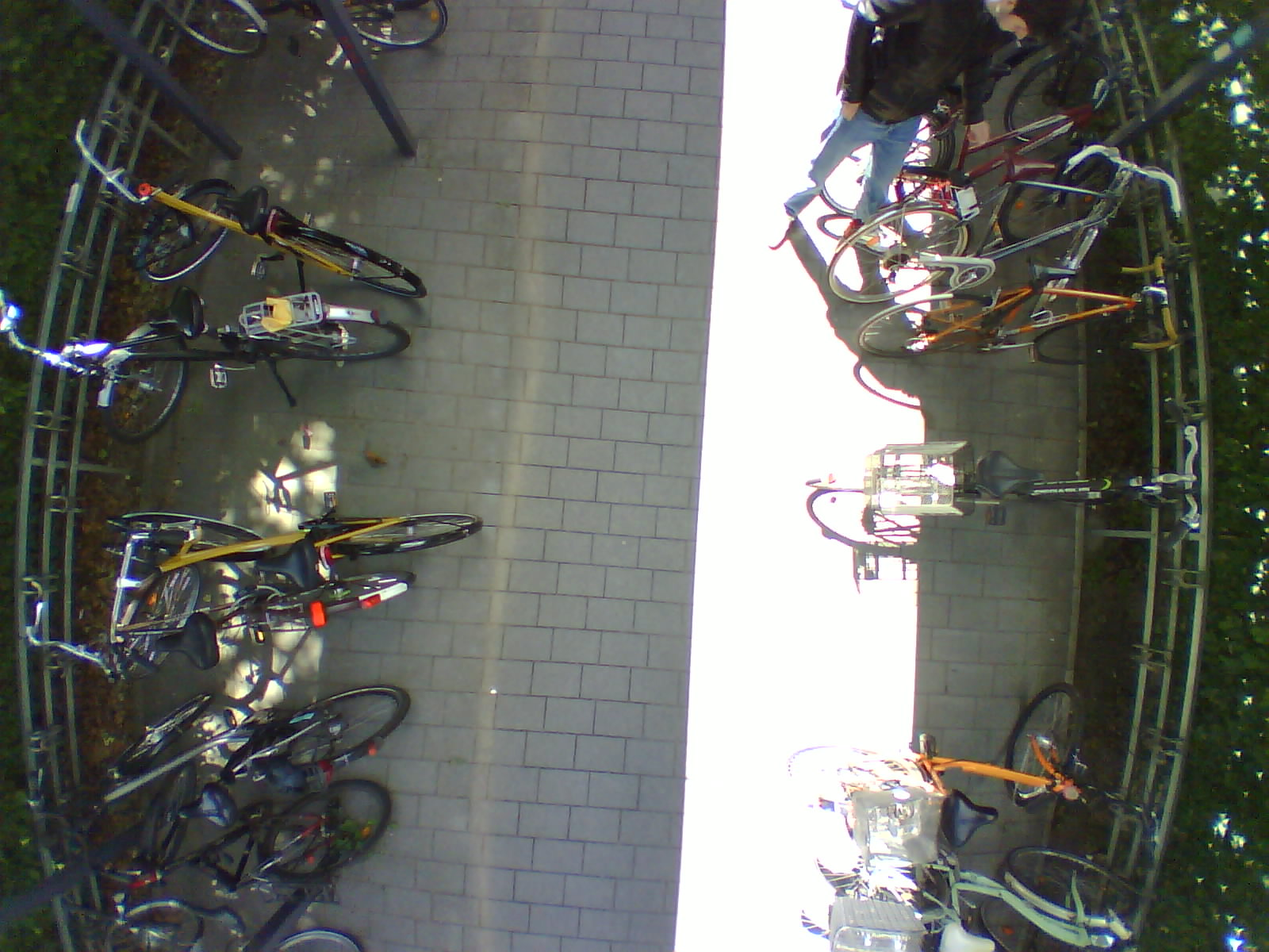bicylce: (34, 676, 418, 824), (780, 675, 1120, 833), (821, 148, 1136, 312), (59, 301, 408, 443), (777, 837, 1175, 952), (20, 554, 419, 664), (0, 780, 411, 885), (129, 166, 437, 300), (86, 492, 480, 591), (800, 434, 1205, 527), (828, 87, 1113, 209), (851, 251, 1177, 353)
saddle: (974, 446, 1059, 508), (149, 609, 221, 669), (147, 278, 211, 345), (254, 539, 318, 597), (940, 789, 1003, 843), (214, 182, 269, 241), (174, 895, 245, 936), (179, 780, 236, 830), (1001, 146, 1057, 190), (259, 753, 316, 794), (939, 920, 1004, 952), (1031, 254, 1081, 292)
